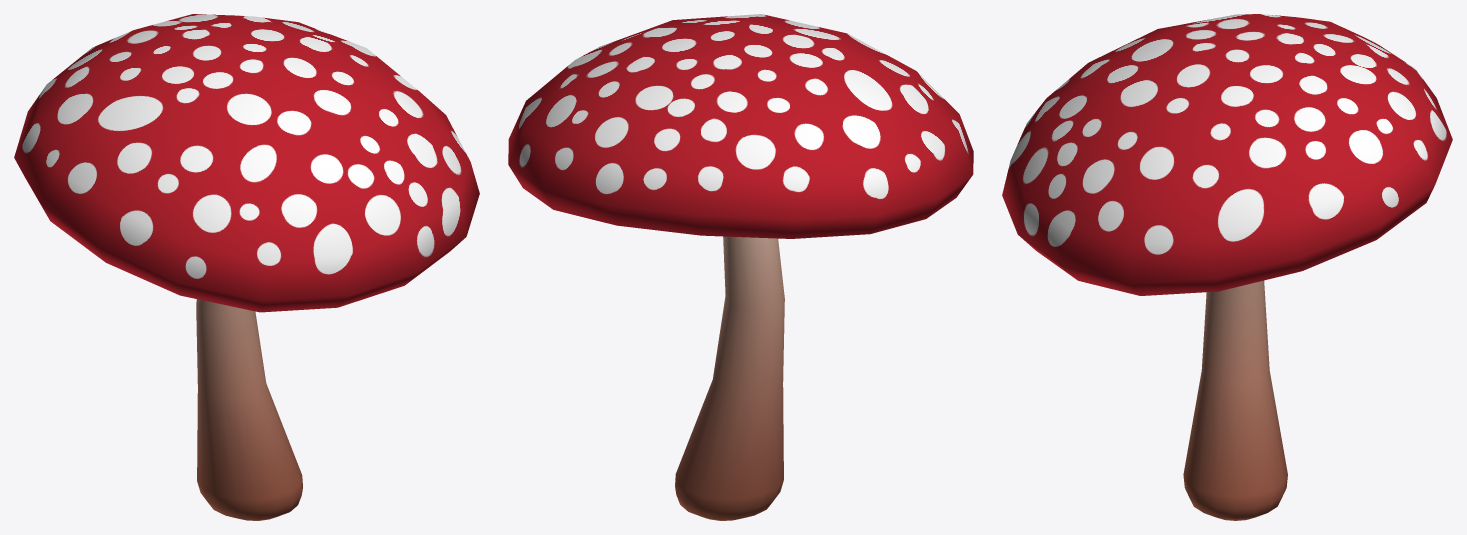
The model's file is Mushrooms_03.fbx.
The picture shows the model from 3 angles, left to right: view 1: azimuth 30°, elevation 25°; view 2: azimuth 150°, elevation 25°; view 3: azimuth 270°, elevation 25°; orthographic projection. The views are drawn at different scales.
Parts seen in each view (by area): view 1: mushroom_hat_03, mushroom_feet_03; view 2: mushroom_hat_03, mushroom_feet_03; view 3: mushroom_hat_03, mushroom_feet_03.
Boxes of the visible parts, x1,y1,x2,y2 form: mushroom_hat_03: (14,14,479,312); mushroom_feet_03: (196,299,302,520); mushroom_hat_03: (508,14,973,238); mushroom_feet_03: (675,236,784,520); mushroom_hat_03: (1002,14,1452,295); mushroom_feet_03: (1183,280,1287,520).
Bounding box in the file's own units: 1.2 × 1.33 × 1.19.
